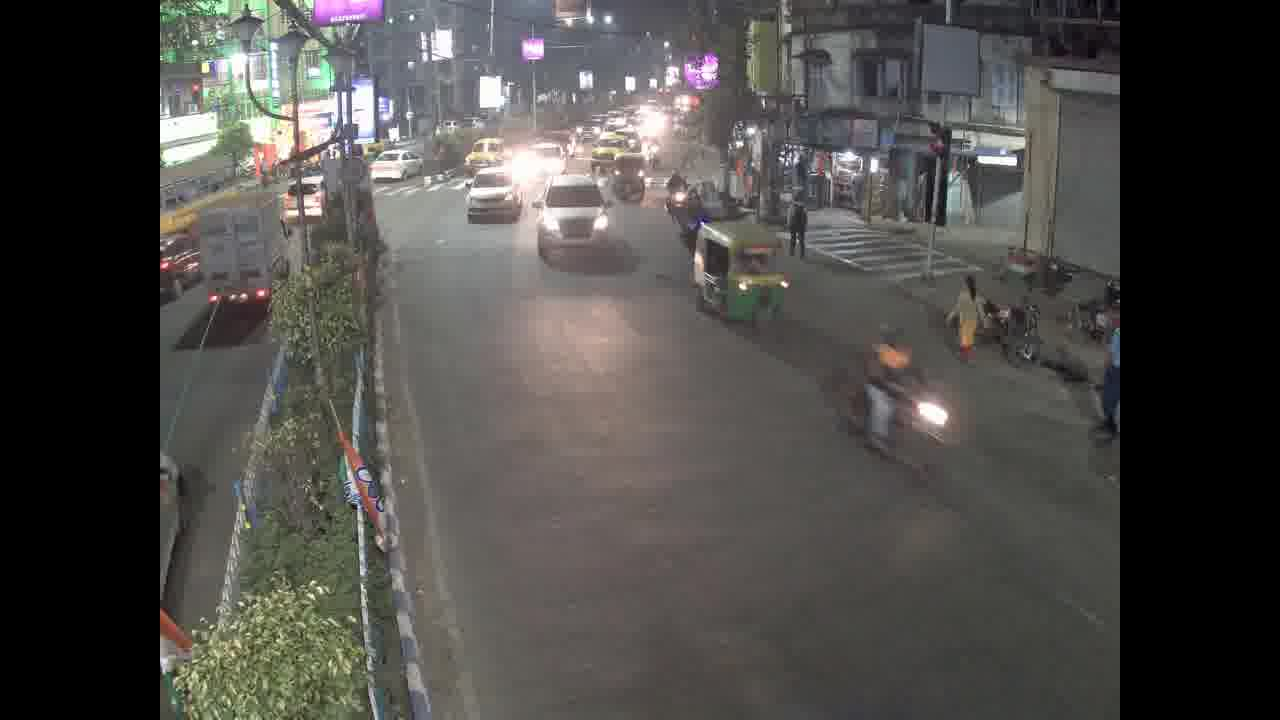auto-rickshaw: (695, 223, 785, 323), (612, 152, 643, 201)
bike: (831, 350, 959, 483)
car: (541, 170, 614, 254), (457, 163, 521, 222), (458, 123, 508, 163)
person: (855, 326, 907, 457), (948, 261, 983, 354), (778, 192, 818, 253)
